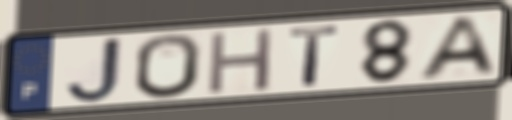8: (356, 17, 417, 86)
A: (413, 14, 502, 82)
H: (205, 25, 278, 97)
J: (63, 35, 126, 106)
O: (132, 32, 204, 101)
T: (287, 23, 343, 88)
